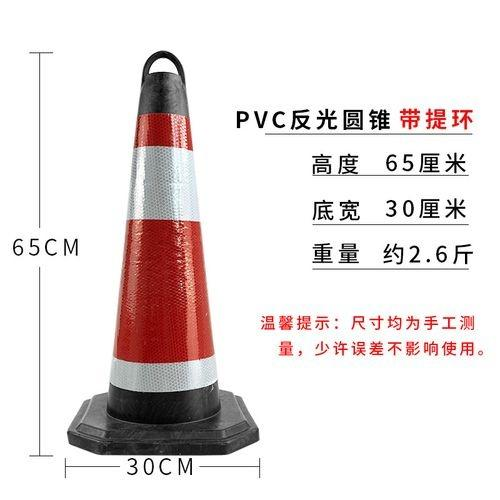cone_barrel: (91, 68, 239, 441)
